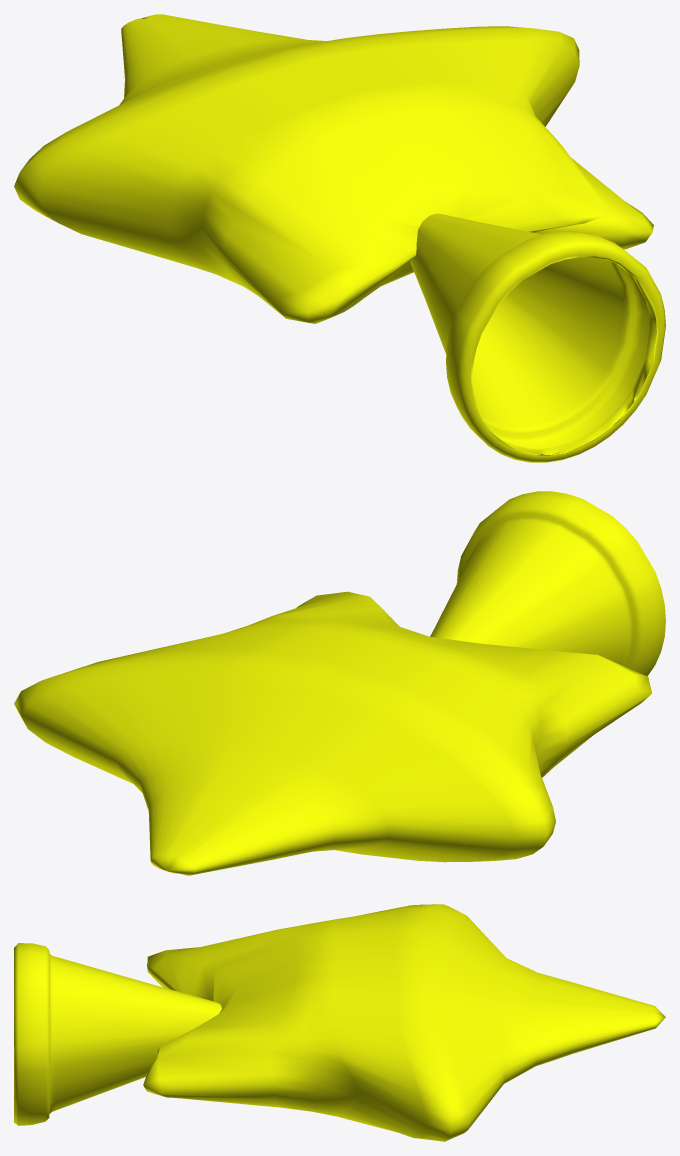
File: Star.fbx
The picture shows the model from 3 angles, top to bottom: view 1: azimuth 30°, elevation 25°; view 2: azimuth 150°, elevation 25°; view 3: azimuth 270°, elevation 25°; orthographic projection. The views are drawn at different scales.
Visible parts, largest first — view 1: pSphere1; view 2: pSphere1; view 3: pSphere1.
Part boxes in pixels (<box>): pSphere1: <box>14,14,665,462</box>; pSphere1: <box>14,491,665,875</box>; pSphere1: <box>14,904,665,1141</box>.
Bounding box in the file's own units: 0.8389 × 0.3127 × 1.1.
